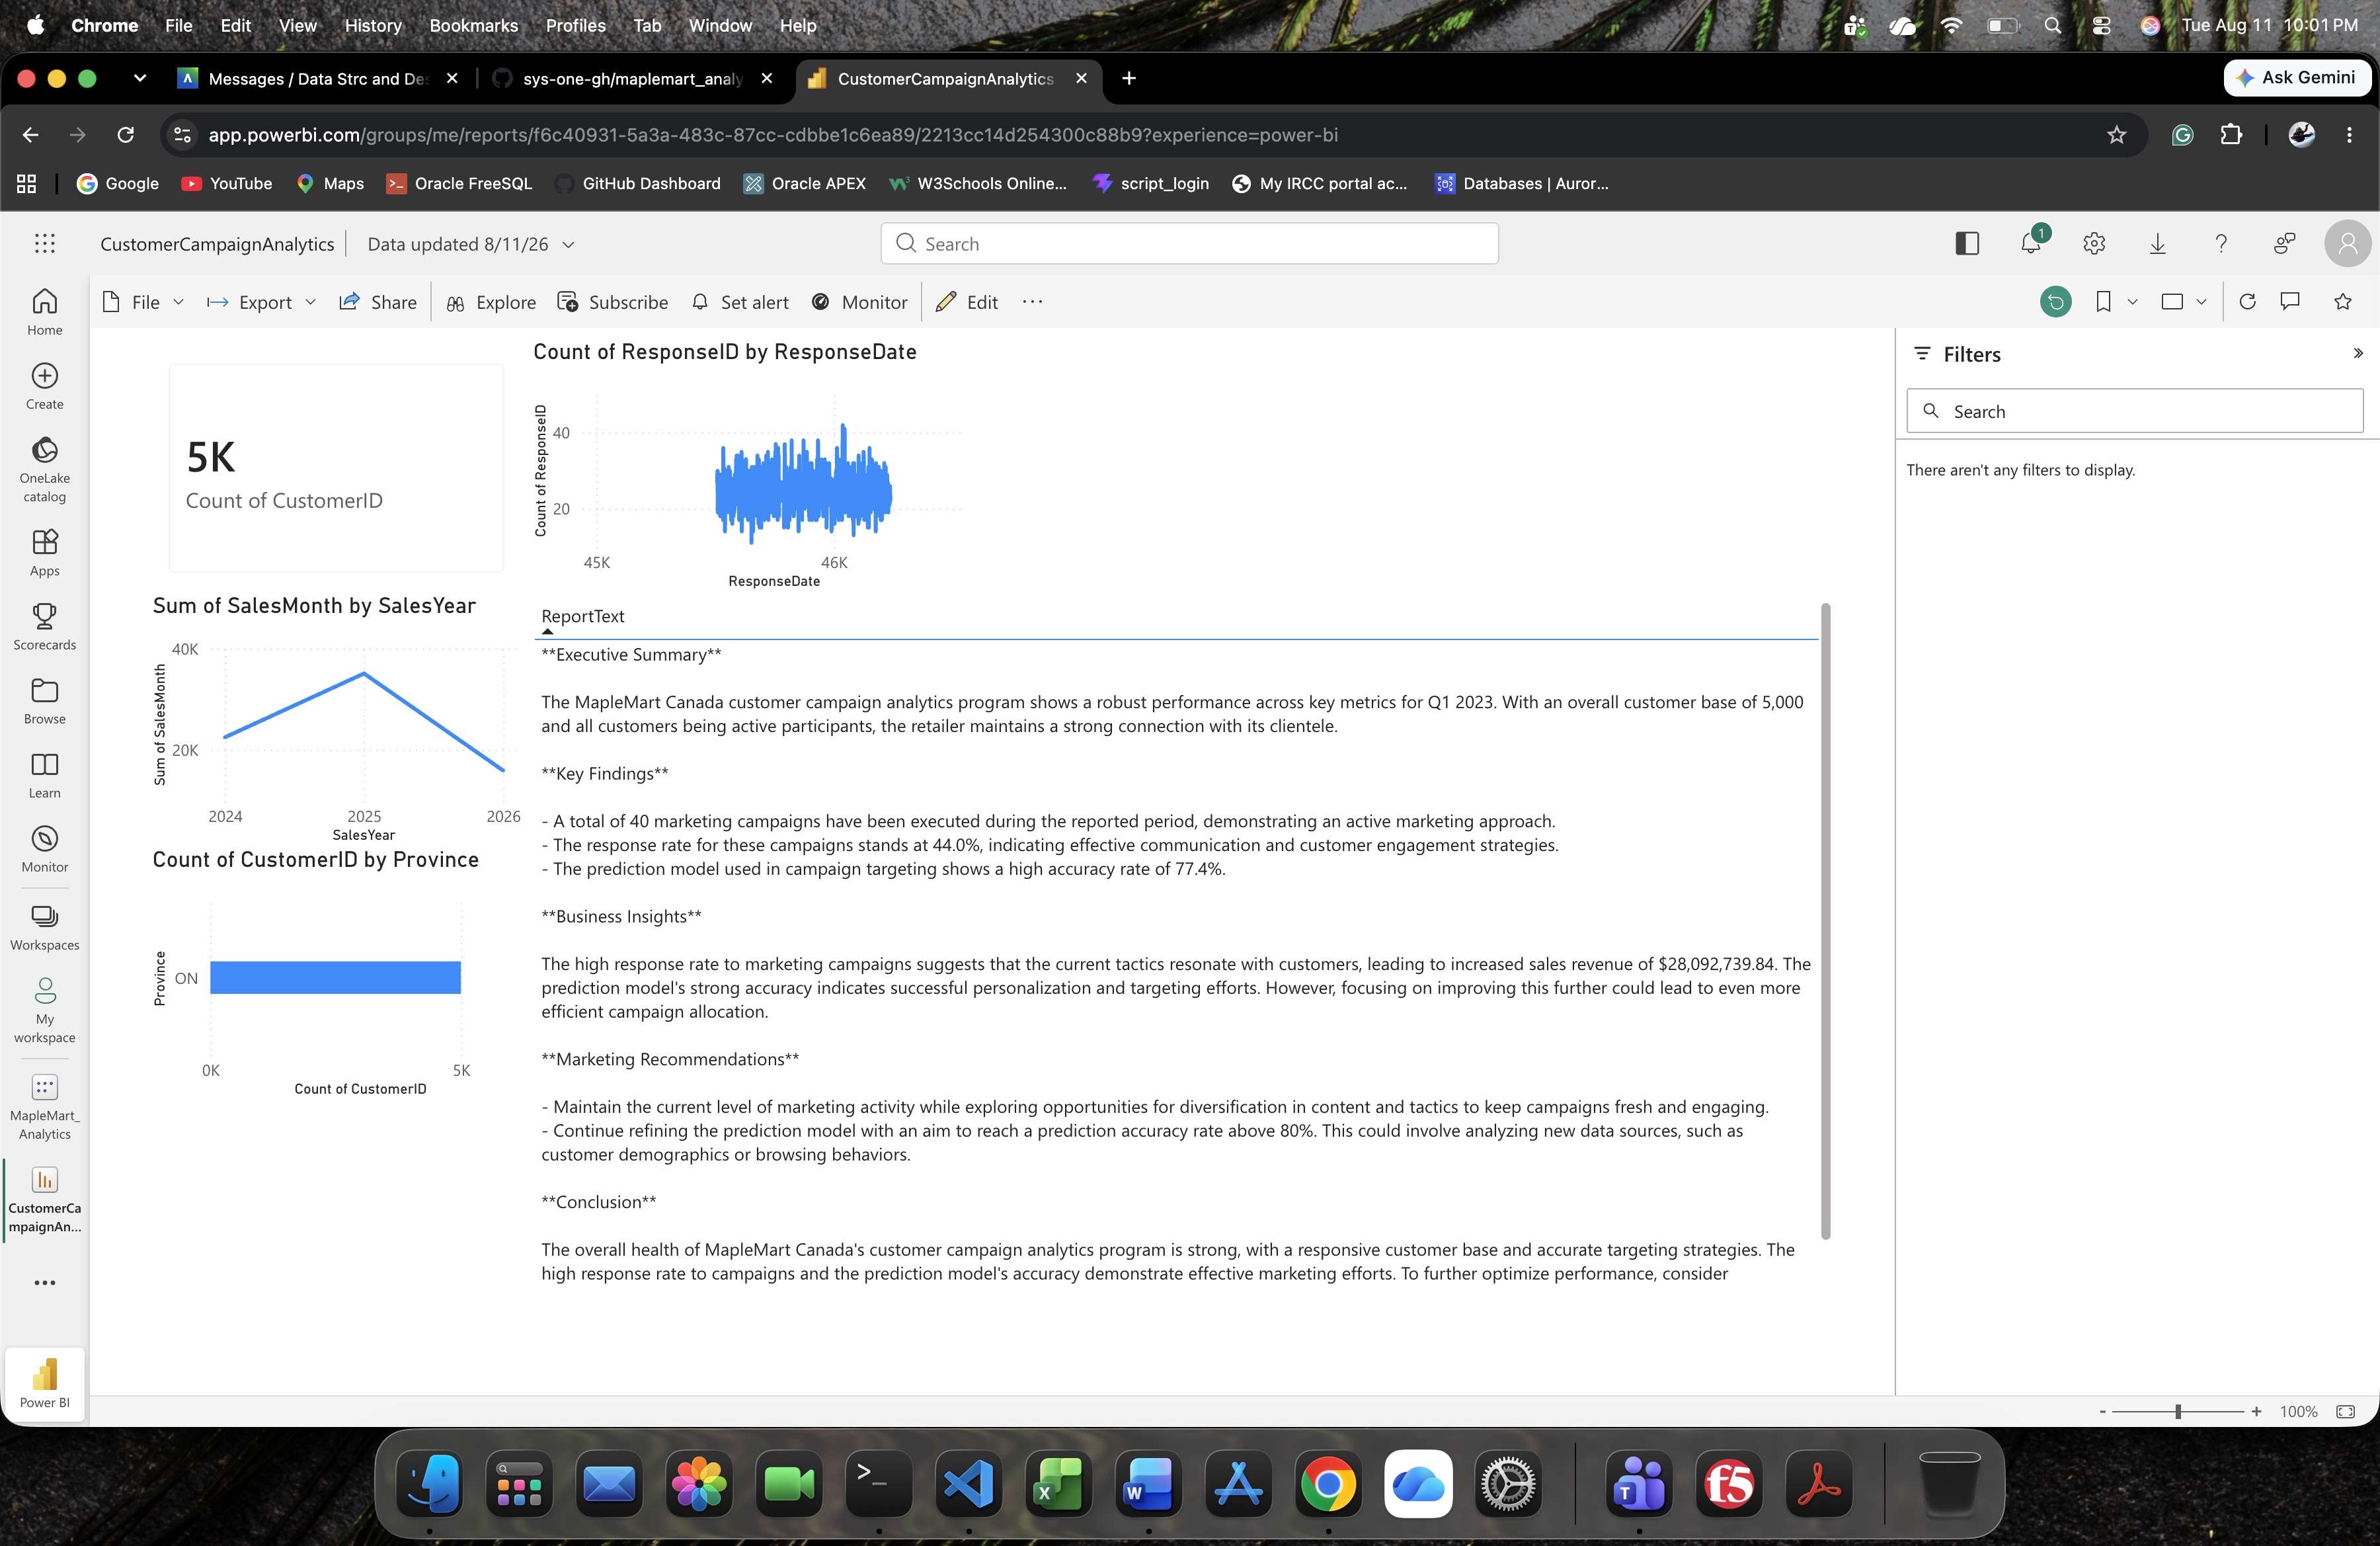

The page's visual inventory and layout, read from the dashboard file:
{"tool":"powerbi","page":{"name":"Page 1","canvas":[1280,720],"ordinal":0},"visuals":[{"type":"cardVisual","fields":{"Data":["CountNonNull(Customer.CustomerID)"]},"box":[0,0,288,192],"z":0},{"type":"lineChart","fields":{"Category":["vwSalesPerformance.SalesYear"],"Y":["Sum(vwSalesPerformance.SalesMonth)"]},"box":[0,192,288,192],"z":1000},{"type":"clusteredBarChart","fields":{"Category":["Customer.Province"],"Y":["CountNonNull(Customer.CustomerID)"]},"box":[0,384,288,192],"z":2000},{"type":"lineChart","fields":{"Category":["CampaignResponse.ResponseDate"],"Y":["CountNonNull(CampaignResponse.ResponseID)"]},"box":[288,0,344,192],"z":3000},{"type":"tableEx","fields":{"Values":["AIReport.ReportText"]},"box":[288,192,992,528],"z":4000}]}

Visuals, with their boxes on the page's 1280x720 design canvas (x1, y1, x2, y2). These are canvas units, not pixel positions in the 2380x1546 screenshot, which may show the page scaled, cropped or inside an application window:
cardVisual - CountNonNull(Customer.CustomerID): <box>0,0,288,192</box>
lineChart - vwSalesPerformance.SalesYear x Sum(vwSalesPerformance.SalesMonth): <box>0,192,288,384</box>
clusteredBarChart - Customer.Province x CountNonNull(Customer.CustomerID): <box>0,384,288,576</box>
lineChart - CampaignResponse.ResponseDate x CountNonNull(CampaignResponse.ResponseID): <box>288,0,632,192</box>
tableEx - AIReport.ReportText: <box>288,192,1280,720</box>
